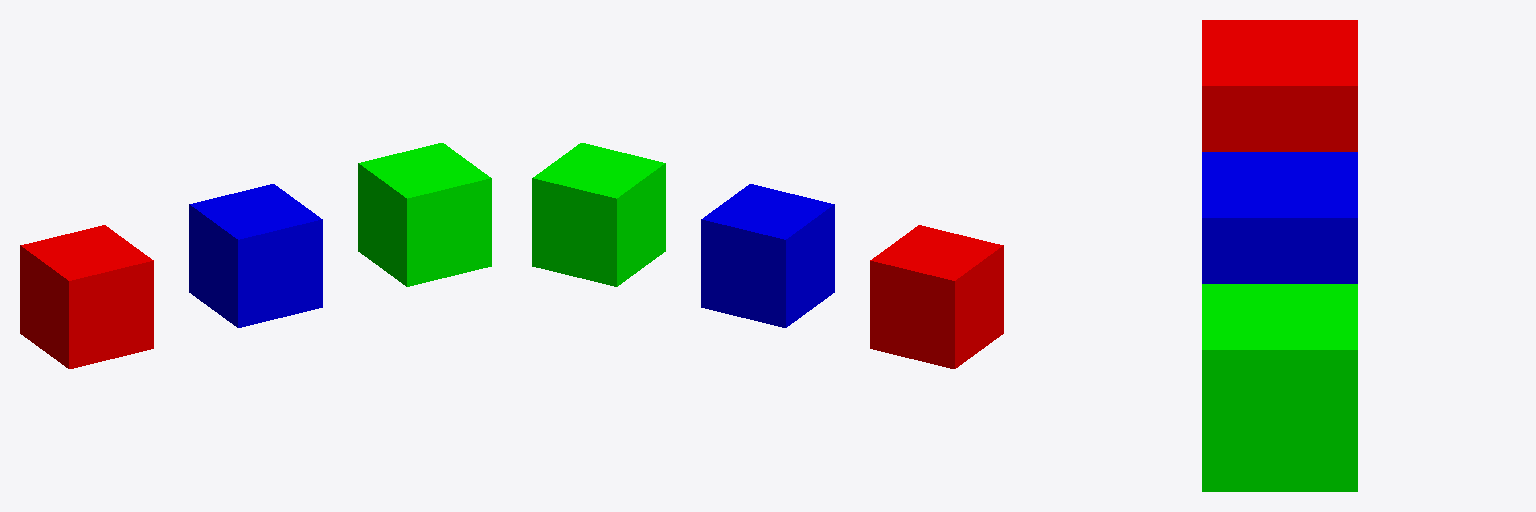
robot.urdf — three_cube_chain:
<?xml version="1.0"?>
<robot name="three_cube_chain">
  <!-- Base link (fixed cube) -->
  <link name="base">
    <visual>
      <geometry>
        <box size="0.1 0.1 0.1"/>
      </geometry>
      <origin xyz="0 0 0" rpy="0 0 0"/>
      <material name="red">
        <color rgba="1 0 0 1"/>
      </material>
    </visual>
    <collision>
      <geometry>
        <box size="0.1 0.1 0.1"/>
      </geometry>
      <origin xyz="0 0 0" rpy="0 0 0"/>
    </collision>
    <inertial>
      <mass value="1.0"/>
      <inertia ixx="0.00667" ixy="0.0" ixz="0.0" iyy="0.00667" iyz="0.0" izz="0.00667"/>
      <origin xyz="0 0 0" rpy="0 0 0"/>
    </inertial>
  </link>

  <!-- Second link (cube connected by joint1) -->
  <link name="moving1">
    <visual>
      <geometry>
        <box size="0.1 0.1 0.1"/>
      </geometry>
      <origin xyz="0.1 0 0" rpy="0 0 0"/>
      <material name="blue">
        <color rgba="0 0 1 1"/>
      </material>
    </visual>
    <collision>
      <geometry>
        <box size="0.1 0.1 0.1"/>
      </geometry>
      <origin xyz="0.1 0 0" rpy="0 0 0"/>
    </collision>
    <inertial>
      <mass value="1.0"/>
      <inertia ixx="0.00667" ixy="0.0" ixz="0.0" iyy="0.00667" iyz="0.0" izz="0.00667"/>
      <origin xyz="0 0 0" rpy="0 0 0"/>
    </inertial>
  </link>

  <!-- Third link (cube connected by joint2) -->
  <link name="moving2">
    <visual>
      <geometry>
        <box size="0.1 0.1 0.1"/>
      </geometry>
      <origin xyz="0.1 0 0" rpy="0 0 0"/>
      <material name="green">
        <color rgba="0 1 0 1"/>
      </material>
    </visual>
    <collision>
      <geometry>
        <box size="0.1 0.1 0.1"/>
      </geometry>
      <origin xyz="0.1 0 0" rpy="0 0 0"/>
    </collision>
    <inertial>
      <mass value="1.0"/>
      <inertia ixx="0.00667" ixy="0.0" ixz="0.0" iyy="0.00667" iyz="0.0" izz="0.00667"/>
      <origin xyz="0 0 0" rpy="0 0 0"/>
    </inertial>
  </link>

  <!-- Revolute joint connecting base to moving1 (rotates around Z axis) -->
  <joint name="joint1" type="revolute">
    <parent link="base"/>
    <child link="moving1"/>
    <origin xyz="0.1 0 0" rpy="0 0 0"/>
    <axis xyz="0 0 1"/>
    <limit lower="-3.14" upper="3.14" effort="100" velocity="1.0"/>
  </joint>

  <!-- Revolute joint connecting moving1 to moving2 (rotates around Y axis) -->
  <joint name="joint2" type="revolute">
    <parent link="moving1"/>
    <child link="moving2"/>
    <origin xyz="0.2 0 0" rpy="0 0 0"/>
    <axis xyz="0 0 1"/>
    <limit lower="-3.14" upper="3.14" effort="100" velocity="1.0"/>
  </joint>

</robot>

--- Render facts (derived) ---
3 views of the same robot in one strip: view 1: azimuth 30°, elevation 25°; view 2: azimuth 150°, elevation 25°; view 3: azimuth 270°, elevation 25° (orthographic).
Robot: three_cube_chain — 3 links, 2 joints (2 revolute); root link base; default pose: all joints at 0.
Visible links, largest first — view 1: base, moving2, moving1; view 2: base, moving2, moving1; view 3: moving2, base, moving1.
Boxes of the visible links, x1=… form: base: x1=20, y1=225, x2=153, y2=368; moving2: x1=358, y1=143, x2=491, y2=286; moving1: x1=189, y1=184, x2=322, y2=327; base: x1=870, y1=225, x2=1003, y2=368; moving2: x1=532, y1=143, x2=665, y2=286; moving1: x1=701, y1=184, x2=834, y2=327; moving2: x1=1202, y1=284, x2=1357, y2=491; base: x1=1202, y1=20, x2=1357, y2=151; moving1: x1=1202, y1=152, x2=1357, y2=283.
Bounding box of the posed robot: 0.5 × 0.1 × 0.1 m (x, y, z).
Geometry: primitives only (box / cylinder / sphere), no mesh files.